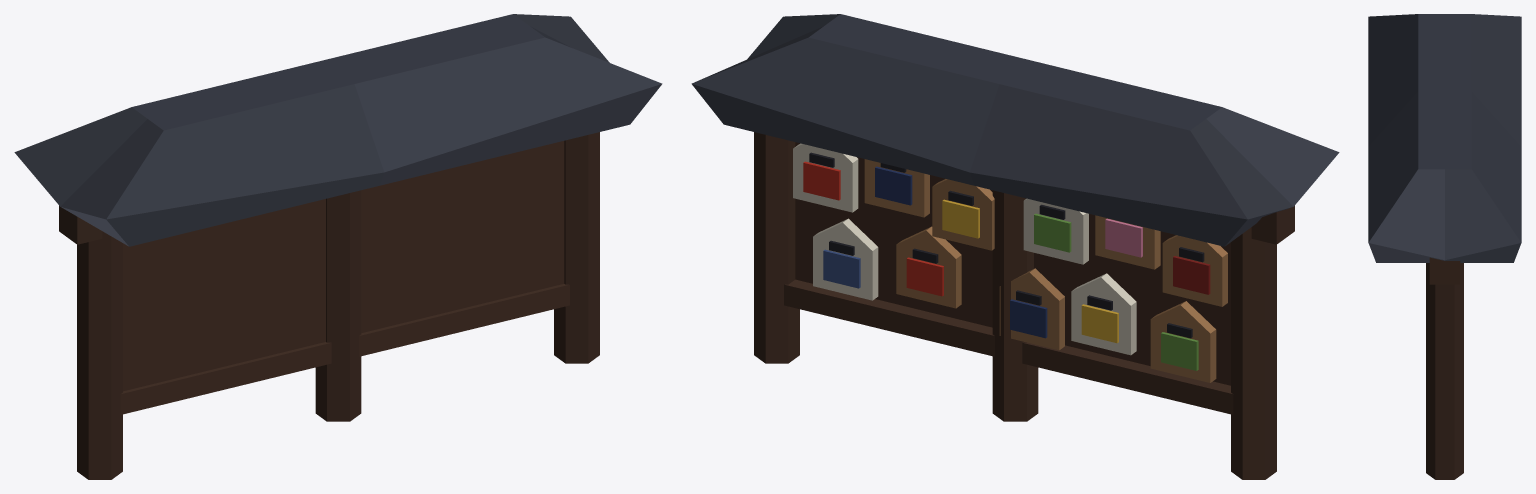
File: Decor_SamuraiShrine_EmaWall.fbx
3 renders of one model, left to right at view 1: azimuth 30°, elevation 25°; view 2: azimuth 150°, elevation 25°; view 3: azimuth 270°, elevation 25°, orthographic. The views are drawn at different scales.
Visible parts, largest first — view 1: EmaWall_Body; view 2: EmaWall_Body; view 3: EmaWall_Body.
Part boxes in pixels (x1,y1,x2,y2): EmaWall_Body: (14, 14, 662, 479); EmaWall_Body: (691, 14, 1339, 479); EmaWall_Body: (1368, 14, 1521, 479).
Size of the model in its own units: 14 by 8.2 by 4.
